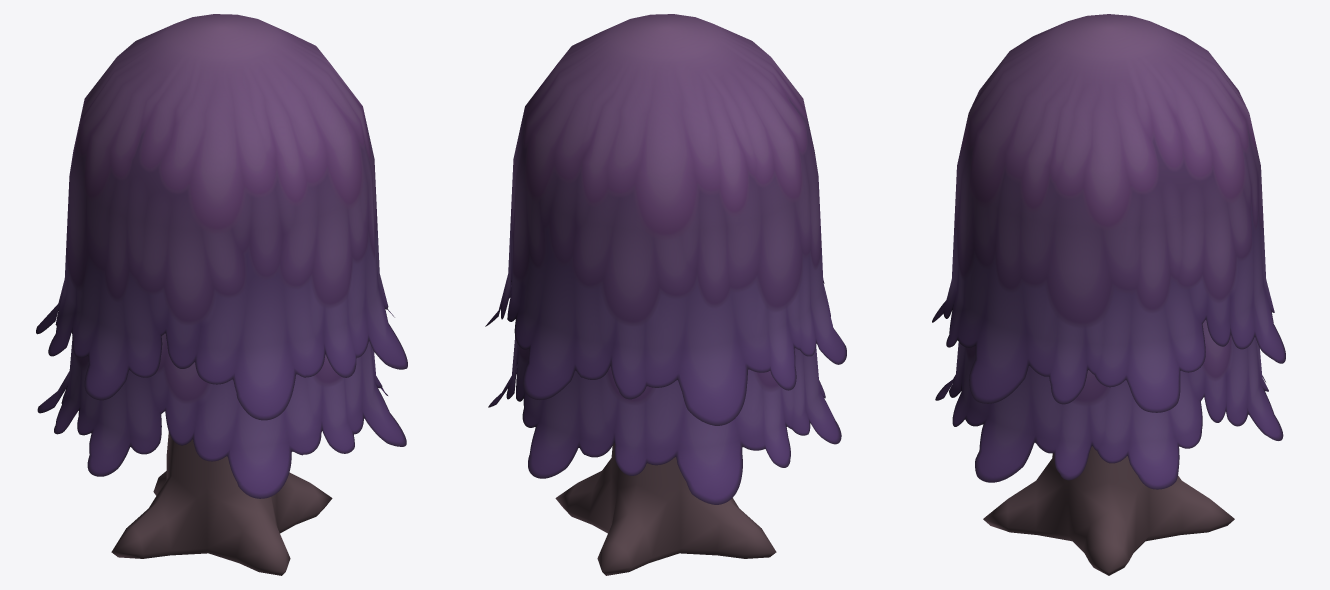
Rendered from MDL_tree_02.fbx.
3 views of the same model, side by side, from view 1: azimuth 30°, elevation 25°; view 2: azimuth 150°, elevation 25°; view 3: azimuth 270°, elevation 25° (orthographic).
Parts seen in each view (by area): view 1: MDL_tree_02; view 2: MDL_tree_02; view 3: MDL_tree_02.
Part boxes in pixels (<box>): MDL_tree_02: <box>36,14,407,575</box>; MDL_tree_02: <box>485,14,846,575</box>; MDL_tree_02: <box>932,14,1285,575</box>.
Size of the model in its own units: 327 by 434 by 327.
